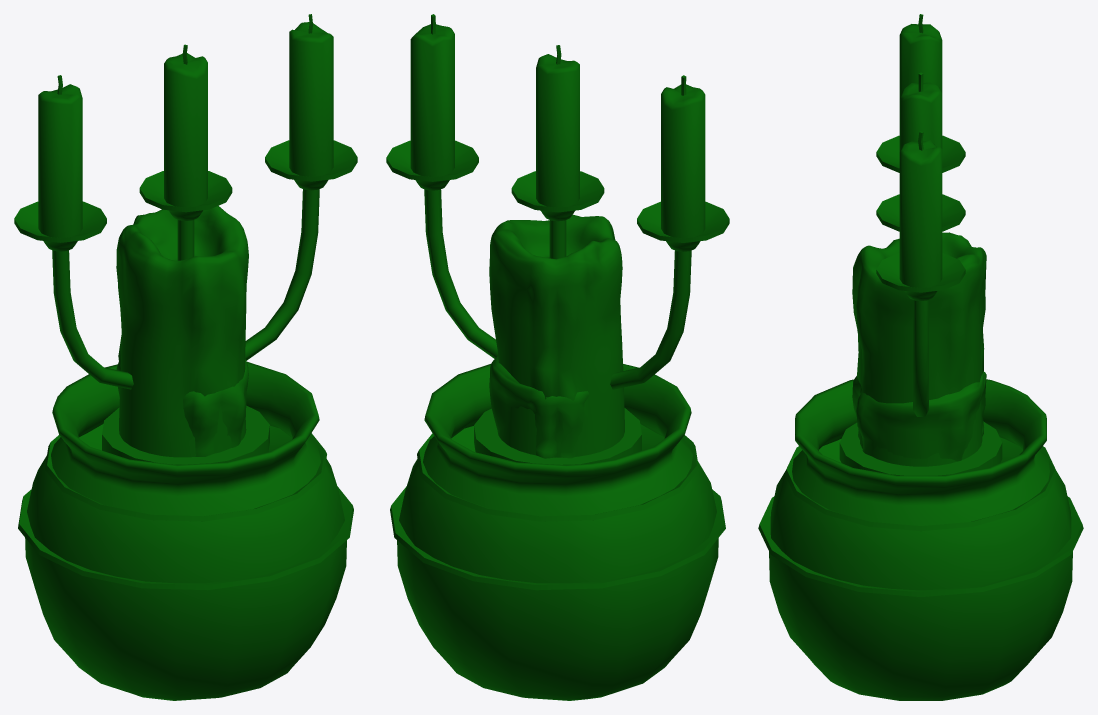
Rendered from Utensils.fbx.
3 renders of one model, left to right at view 1: azimuth 30°, elevation 25°; view 2: azimuth 150°, elevation 25°; view 3: azimuth 270°, elevation 25°, orthographic. The views are drawn at different scales.
Visible parts, largest first — view 1: Pot1, Candlestick, CANDLE1, Plate, CANDLE, Bowl, Pot2; view 2: Pot1, Candlestick, CANDLE1, CANDLE, Plate, Bowl, Pot2; view 3: Pot1, Candlestick, CANDLE1, CANDLE, Plate, Pot2, Bowl.
Boxes of the visible parts, bbox=[...] form: Pot1: bbox=[25, 361, 346, 700]; Candlestick: bbox=[14, 14, 357, 389]; CANDLE1: bbox=[116, 206, 248, 457]; Plate: bbox=[18, 486, 353, 590]; CANDLE: bbox=[116, 359, 248, 456]; Bowl: bbox=[45, 424, 326, 521]; Pot2: bbox=[102, 405, 269, 464]; Pot1: bbox=[397, 364, 718, 700]; Candlestick: bbox=[386, 14, 729, 389]; CANDLE1: bbox=[489, 214, 624, 457]; CANDLE: bbox=[489, 356, 589, 458]; Plate: bbox=[390, 486, 725, 590]; Bowl: bbox=[417, 424, 698, 521]; Pot2: bbox=[474, 408, 641, 464]; Pot1: bbox=[769, 379, 1072, 700]; Candlestick: bbox=[876, 14, 965, 416]; CANDLE1: bbox=[852, 232, 986, 466]; CANDLE: bbox=[852, 371, 986, 461]; Plate: bbox=[758, 496, 1083, 596]; Pot2: bbox=[839, 421, 1002, 475]; Bowl: bbox=[784, 437, 1057, 531].
Size of the model in its own units: 37.42 by 66.07 by 33.19.
